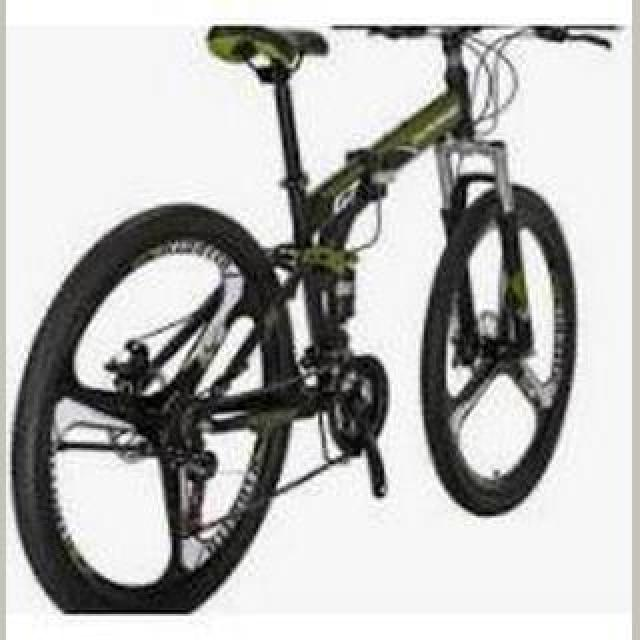Person: (10, 24, 622, 618)
